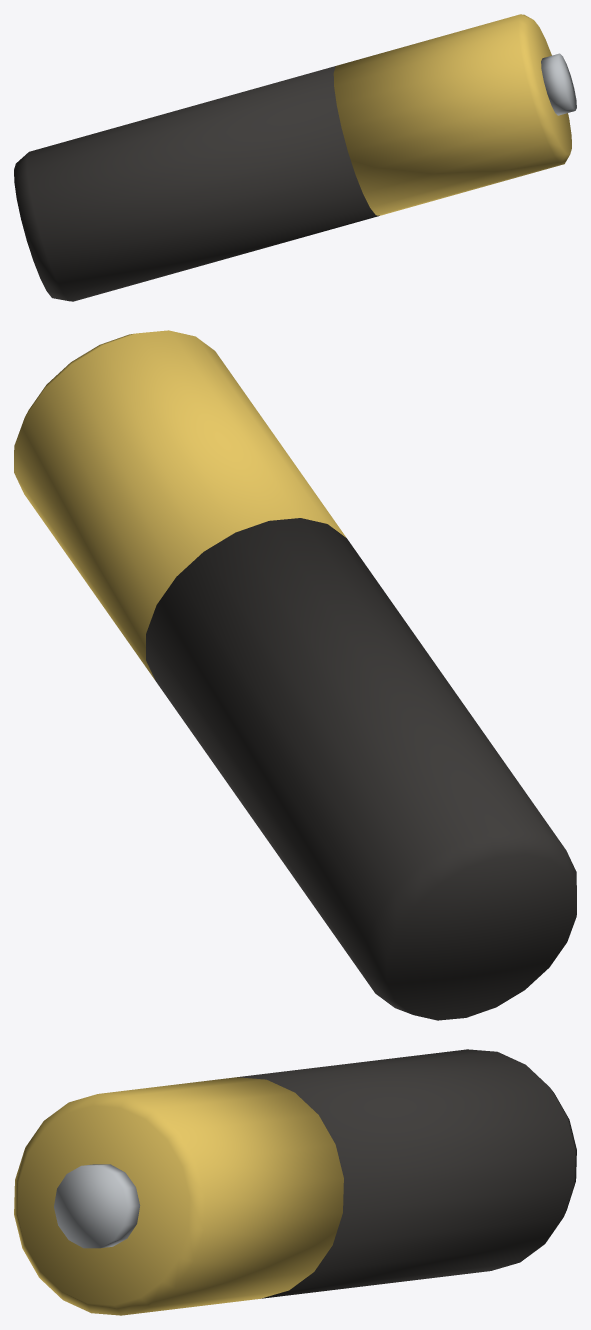
3 views of the same model, one above another, from view 1: azimuth 30°, elevation 25°; view 2: azimuth 150°, elevation 25°; view 3: azimuth 270°, elevation 25° (orthographic). The views are drawn at different scales.
Parts seen in each view (by area): view 1: cell, top, nub; view 2: cell, top; view 3: top, cell, nub.
Part boxes in pixels (x1,y1,x2,y2): cell: (14, 66, 379, 301); top: (333, 14, 571, 215); nub: (541, 53, 576, 115); cell: (146, 518, 576, 1020); top: (14, 330, 346, 680); top: (14, 1077, 343, 1315); cell: (237, 1049, 576, 1298); nub: (54, 1164, 140, 1248).
Bounding box in the file's own units: 0.048 × 0.0285 × 0.0366.
